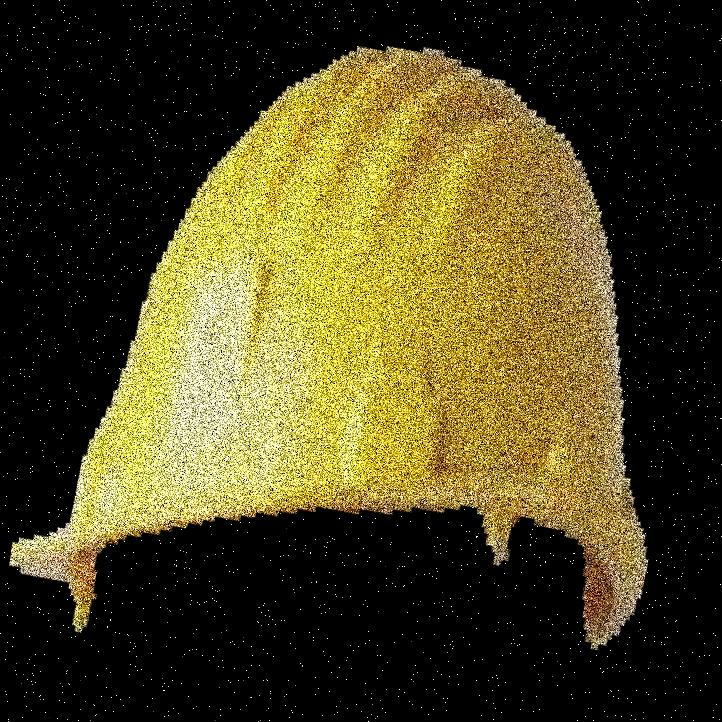Capacete: (179, 0, 581, 721)
